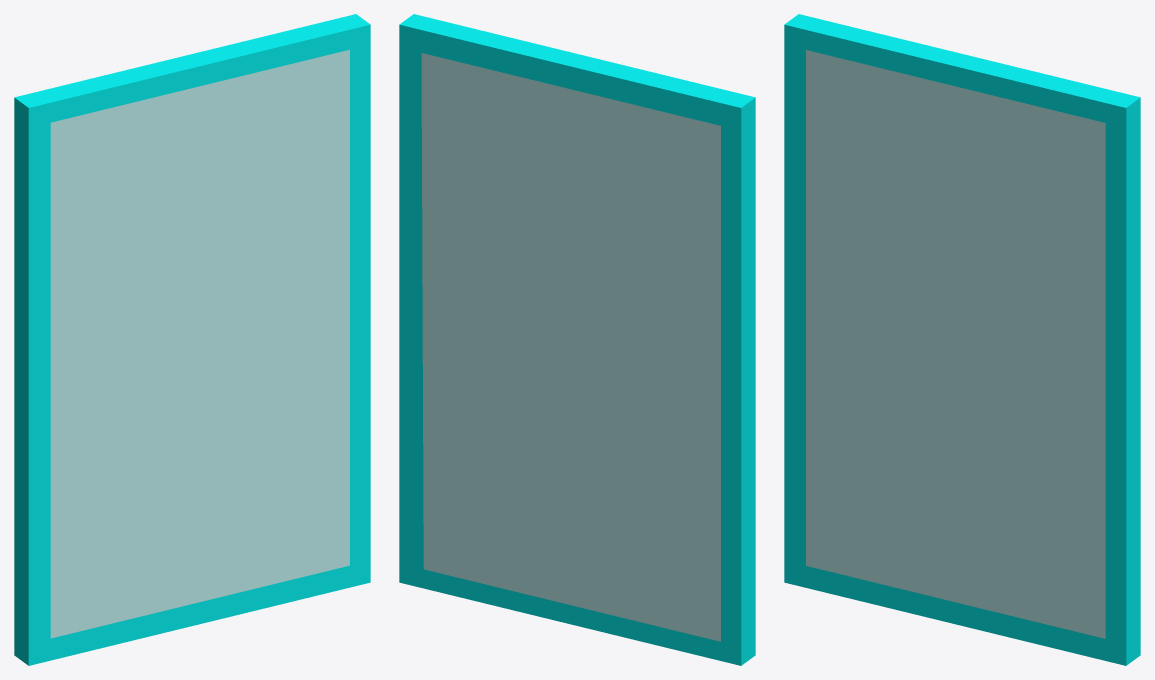
The model's file is portal.fbx.
The picture shows the model from 3 angles, left to right: view 1: azimuth 30°, elevation 25°; view 2: azimuth 150°, elevation 25°; view 3: azimuth 330°, elevation 25°; orthographic projection.
Visible parts, largest first — view 1: pCube1; view 2: pCube1; view 3: pCube1.
Part boxes in pixels (left/top/right/bottom): pCube1: left=14, top=14, right=370, bottom=665; pCube1: left=399, top=14, right=755, bottom=665; pCube1: left=784, top=14, right=1140, bottom=665.
Bounding box in the file's own units: 6.87 × 10.71 × 0.5057.
